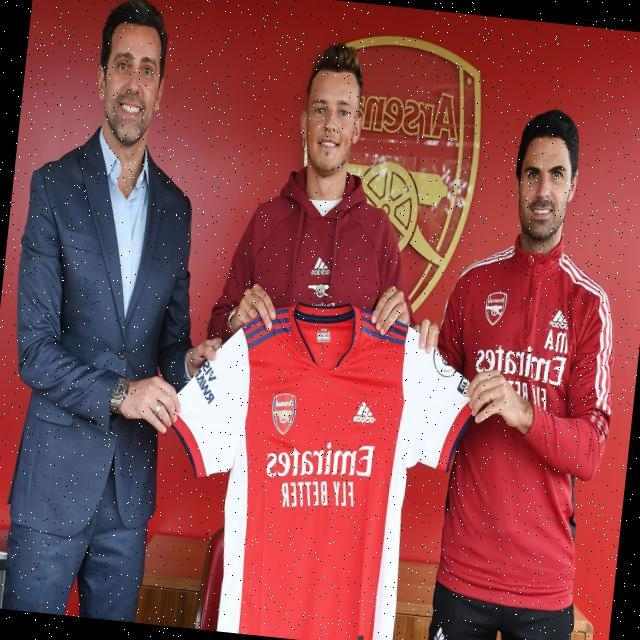Adidas: (350, 399, 376, 426), (548, 307, 570, 329), (310, 256, 331, 278), (431, 626, 449, 640)
Emirates: (265, 433, 376, 488), (473, 342, 568, 386)
